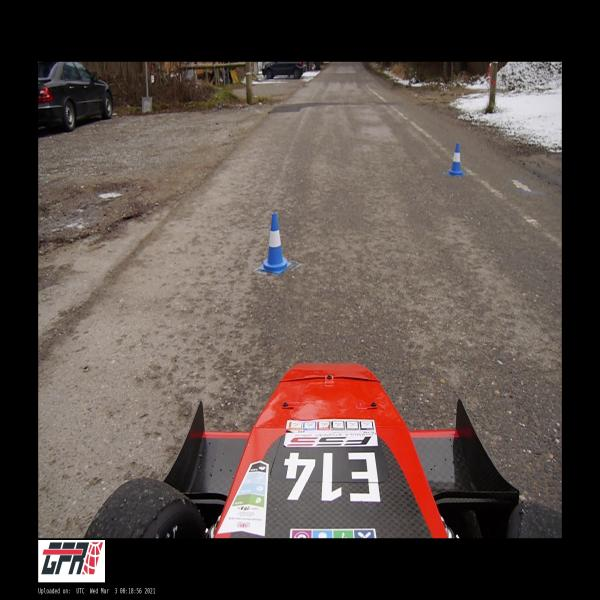blue_cone: (259, 214, 291, 274), (449, 143, 463, 176)
